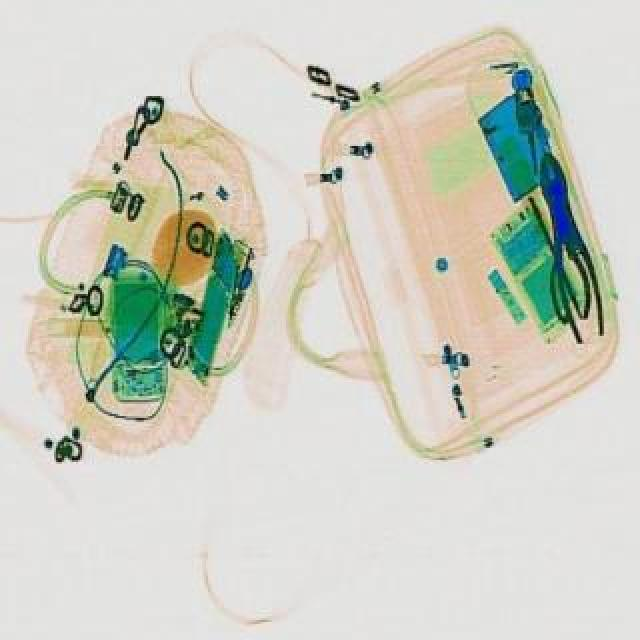wrench: (526, 148, 608, 340), (538, 198, 594, 318)
